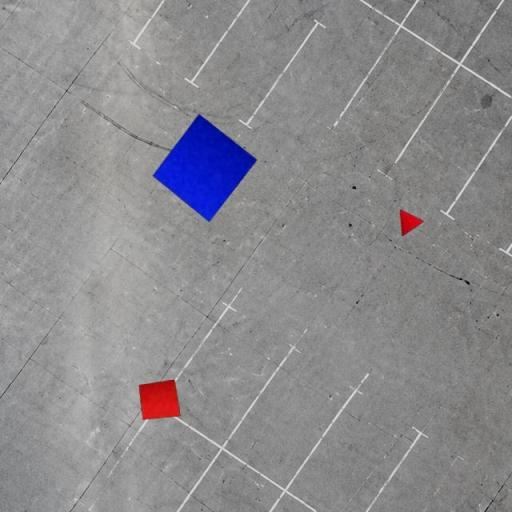BLUE_SQUARE: (152, 114, 258, 223)
RED_SQUARE: (138, 378, 182, 421)
